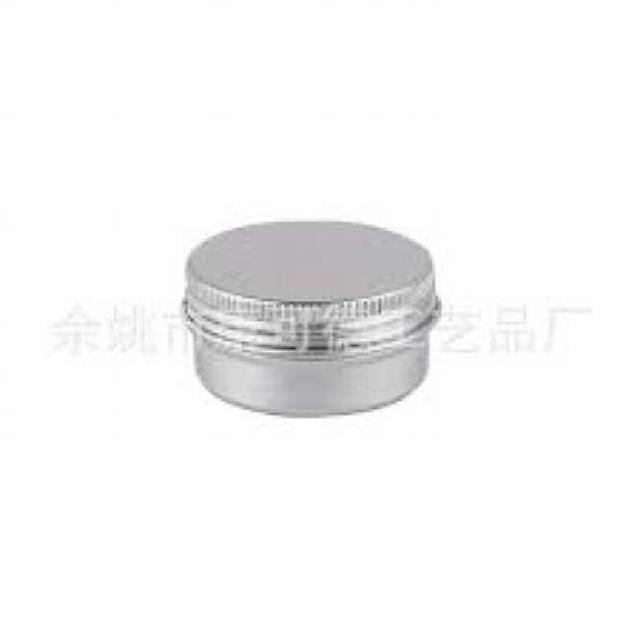METAL: (179, 222, 441, 412)
